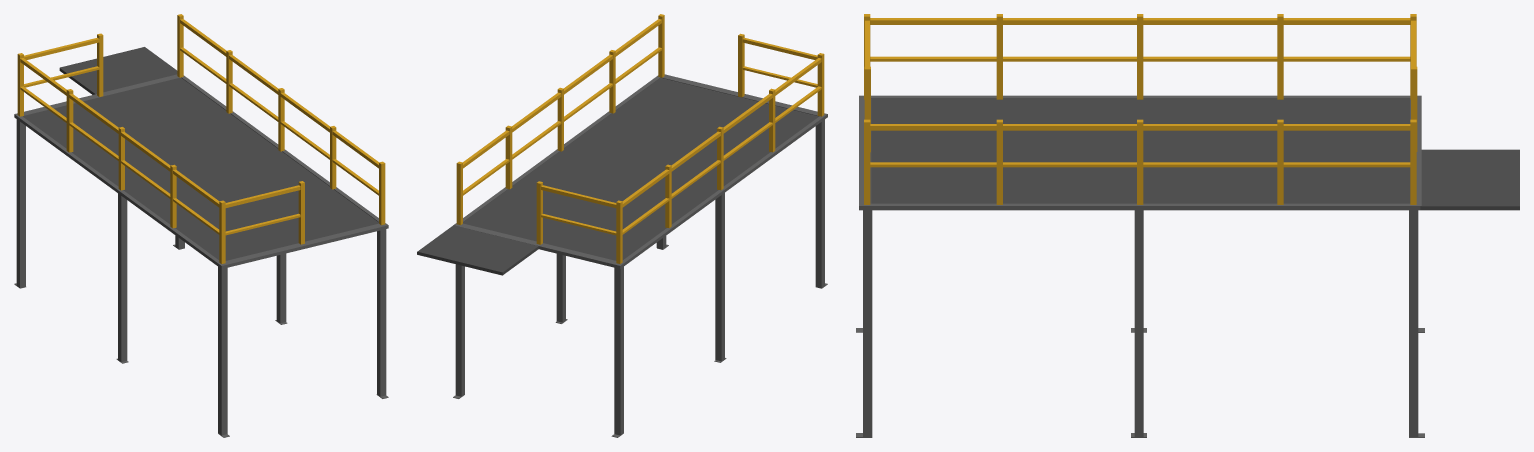
File: secondCatwalk.fbx
3 renders of one model, left to right at view 1: azimuth 30°, elevation 25°; view 2: azimuth 150°, elevation 25°; view 3: azimuth 270°, elevation 25°, orthographic. The views are drawn at different scales.
Parts seen in each view (by area): view 1: Platform, JumpPlatform, Railing, Post; view 2: Platform, JumpPlatform, Railing, Post; view 3: Platform, JumpPlatform.
Part boxes in pixels (x1,y1,x2,y2): Platform: (14, 14, 388, 437); JumpPlatform: (59, 47, 177, 94); Railing: (24, 37, 99, 87); Post: (97, 33, 103, 96); Platform: (453, 14, 827, 437); JumpPlatform: (417, 225, 538, 275); Railing: (541, 185, 616, 235); Post: (536, 181, 542, 244); Platform: (856, 14, 1424, 437); JumpPlatform: (1420, 149, 1519, 210).
Size of the model in its own units: 650 by 865 by 1650.
